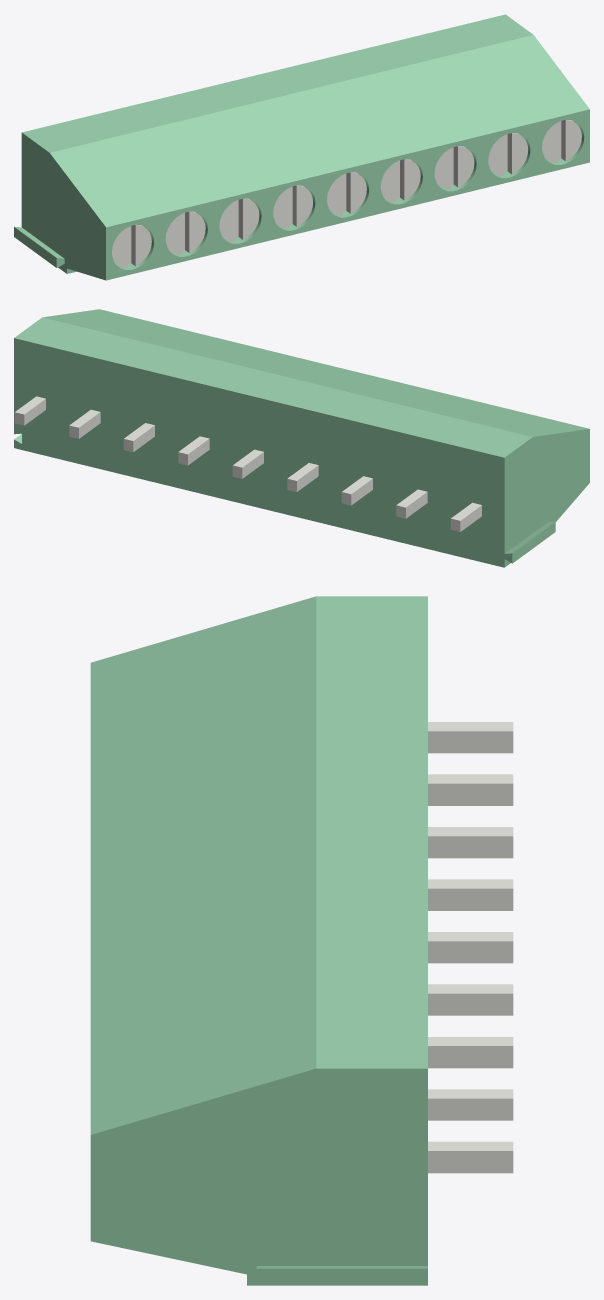
File: TerminalBlock_Phoenix_MKDS-1,5-9-5.08_1x09_P5.08mm_Horizontal.glb
The picture shows the model from 3 angles, top to bottom: view 1: azimuth 30°, elevation 25°; view 2: azimuth 150°, elevation 25°; view 3: azimuth 270°, elevation 25°; orthographic projection. The views are drawn at different scales.
Parts seen in each view (by area): view 1: Shape_IndexedFaceSet.003, Shape_IndexedFaceSet.004, Shape_IndexedFaceSet.002, Shape_IndexedFaceSet, Shape_IndexedFaceSet.272, Shape_IndexedFaceSet.302, Shape_IndexedFaceSet.242, Shape_IndexedFaceSet.312, Shape_IndexedFaceSet.306, Shape_IndexedFaceSet.252, Shape_IndexedFaceSet.276, Shape_IndexedFaceSet.322 (+11 smaller); view 2: Shape_IndexedFaceSet.005, Shape_IndexedFaceSet.004, Shape_IndexedFaceSet.003, Shape_IndexedFaceSet, Shape_IndexedFaceSet.021; view 3: Shape_IndexedFaceSet.003, Shape_IndexedFaceSet.011, Shape_IndexedFaceSet.004, Shape_IndexedFaceSet.028, Shape_IndexedFaceSet.032, Shape_IndexedFaceSet.036, Shape_IndexedFaceSet.040, Shape_IndexedFaceSet.044, Shape_IndexedFaceSet.048, Shape_IndexedFaceSet.052, Shape_IndexedFaceSet.056, Shape_IndexedFaceSet.060 (+1 smaller).
Boxes of the visible parts, x1,y1,x2,y2 form: Shape_IndexedFaceSet.003: (50,35,589,227); Shape_IndexedFaceSet.004: (22,14,533,152); Shape_IndexedFaceSet.002: (106,109,589,280); Shape_IndexedFaceSet: (21,132,105,280); Shape_IndexedFaceSet.272: (296,185,312,226); Shape_IndexedFaceSet.302: (565,120,581,160); Shape_IndexedFaceSet.242: (350,172,366,213); Shape_IndexedFaceSet.312: (135,225,151,265); Shape_IndexedFaceSet.306: (542,122,558,162); Shape_IndexedFaceSet.252: (404,159,420,200); Shape_IndexedFaceSet.276: (273,188,289,228); Shape_IndexedFaceSet.322: (189,212,205,252); Shape_IndexedFaceSet.005: (14,338,512,567); Shape_IndexedFaceSet.004: (14,317,532,457); Shape_IndexedFaceSet.003: (43,309,589,436); Shape_IndexedFaceSet: (504,429,589,567); Shape_IndexedFaceSet.021: (512,522,555,563); Shape_IndexedFaceSet.003: (90,596,316,1134); Shape_IndexedFaceSet.011: (90,1068,427,1285); Shape_IndexedFaceSet.004: (316,596,427,1068); Shape_IndexedFaceSet.028: (428,1046,513,1068); Shape_IndexedFaceSet.032: (428,941,513,963); Shape_IndexedFaceSet.036: (428,993,513,1015); Shape_IndexedFaceSet.040: (428,836,513,858); Shape_IndexedFaceSet.044: (428,888,513,910); Shape_IndexedFaceSet.048: (428,1098,513,1120); Shape_IndexedFaceSet.052: (428,783,513,805); Shape_IndexedFaceSet.056: (428,731,513,753); Shape_IndexedFaceSet.060: (428,1151,513,1173).
Size of the model in its own units: 18.29 by 3.86 by 6.81.
